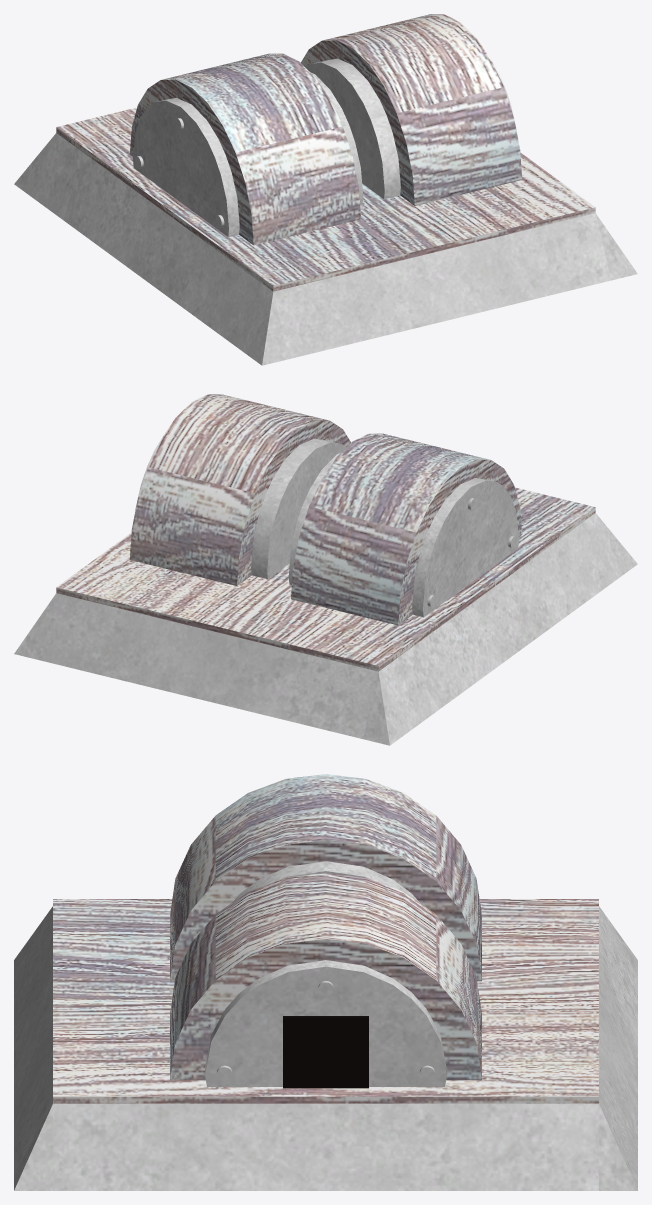
File: LeverBase.obj
3 views of the same model, one above another, from view 1: azimuth 30°, elevation 25°; view 2: azimuth 150°, elevation 25°; view 3: azimuth 270°, elevation 25° (orthographic). The views are drawn at different scales.
Parts seen in each view (by area): view 1: Union1, Part10, Wedge4, Wedge3, Part9, Part6, Cornerwedge4, Cornerwedge1, Cornerwedge3; view 2: Union1, Part10, Wedge2, Wedge3, Part9, Part6, Cornerwedge3, Cornerwedge2, Cornerwedge4; view 3: Union1, Part10, Wedge1, Part6, Wedge2, Wedge4, Part4, Cornerwedge1, Cornerwedge2, Part9.
Boxes of the visible parts, x1,y1,x2,y2 form: Union1: (129,14,522,245); Part10: (56,107,595,291); Wedge4: (273,213,610,358); Wedge3: (29,133,272,353); Part9: (133,72,363,237); Part6: (305,52,516,199); Cornerwedge4: (246,292,288,365); Cornerwedge1: (595,213,637,280); Cornerwedge3: (14,133,55,195); Union1: (129,394,522,625); Part10: (56,487,595,671); Wedge2: (41,593,378,738); Wedge3: (379,513,622,733); Part9: (288,452,518,617); Part6: (135,432,346,579); Cornerwedge3: (363,672,405,745); Cornerwedge2: (14,593,56,660); Cornerwedge4: (596,513,637,575); Union1: (170,774,481,1080); Part10: (53,899,598,1103); Wedge1: (53,1103,598,1190); Part6: (205,960,446,1086); Wedge2: (599,906,637,1173); Wedge4: (14,906,52,1173); Part4: (283,1016,368,1088); Cornerwedge1: (14,1104,52,1190); Cornerwedge2: (599,1104,637,1190); Part9: (232,861,419,902).
Bounding box in the file's own units: 1.75 × 0.85 × 2.
